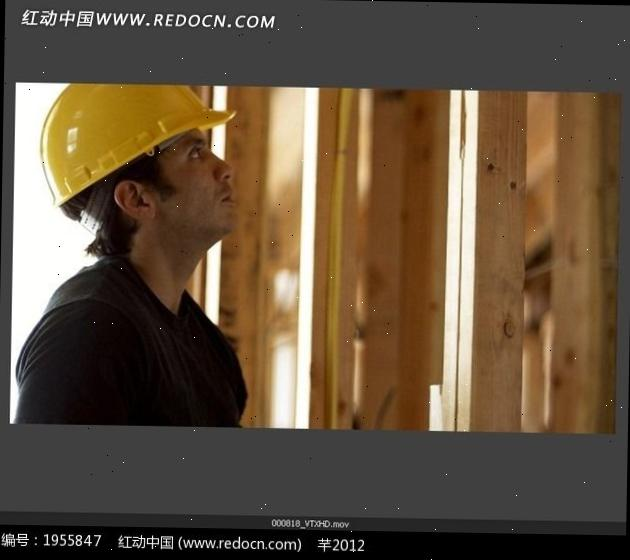helmet: (28, 84, 236, 209)
